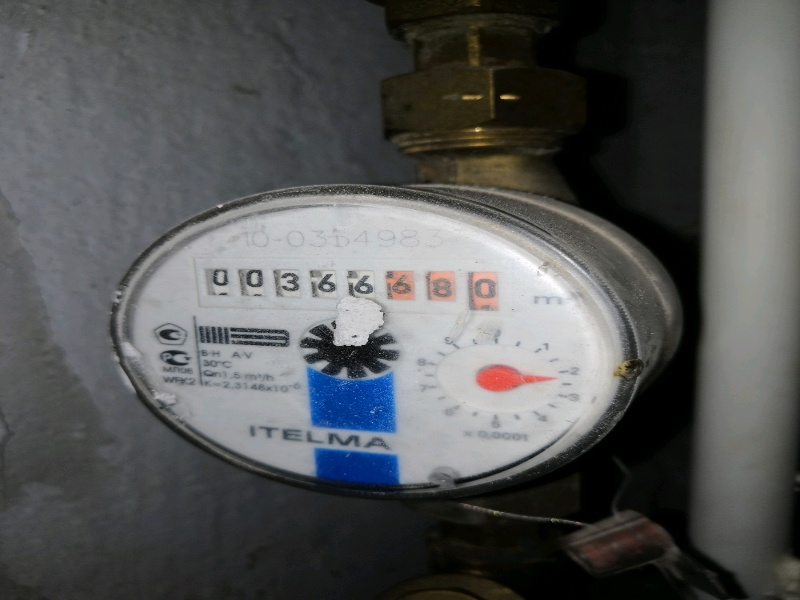meter: (192, 265, 508, 323)
